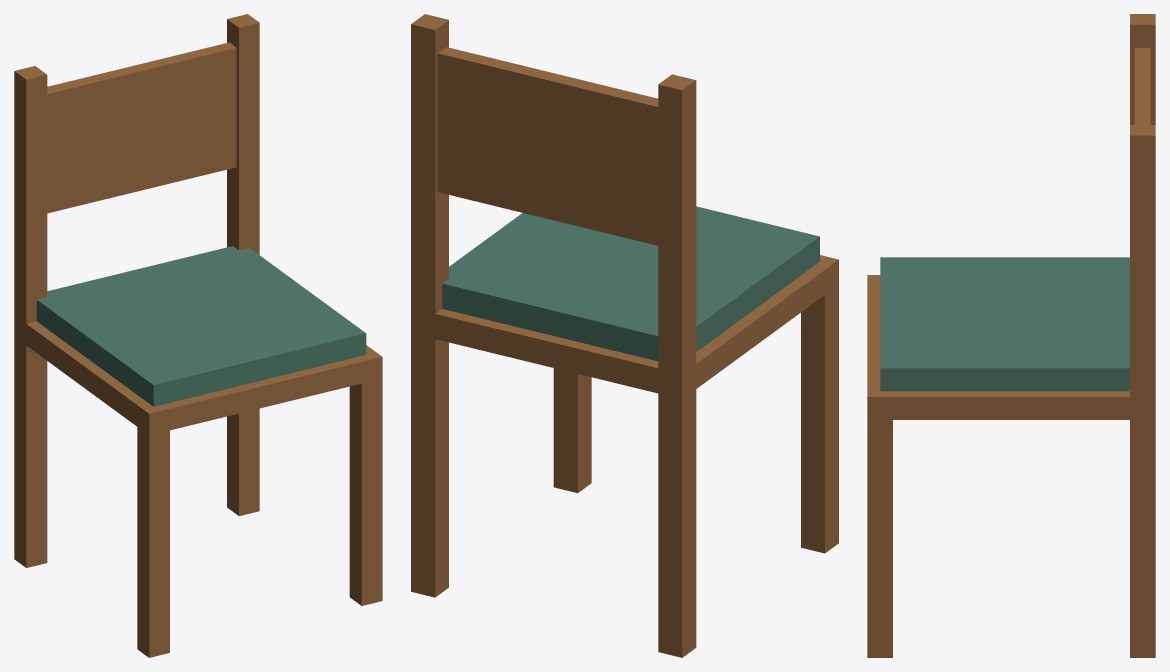
The model's file is chair.glb.
3 views of the same model, side by side, from view 1: azimuth 30°, elevation 25°; view 2: azimuth 150°, elevation 25°; view 3: azimuth 270°, elevation 25° (orthographic). The views are drawn at different scales.
Parts seen in each view (by area): view 1: chair; view 2: chair; view 3: chair.
Boxes of the visible parts, x1=… form: chair: x1=14, y1=14, x2=382, y2=657; chair: x1=411, y1=14, x2=838, y2=657; chair: x1=867, y1=14, x2=1155, y2=657.
Bounding box in the file's own units: 0.45 × 0.9 × 0.45.
